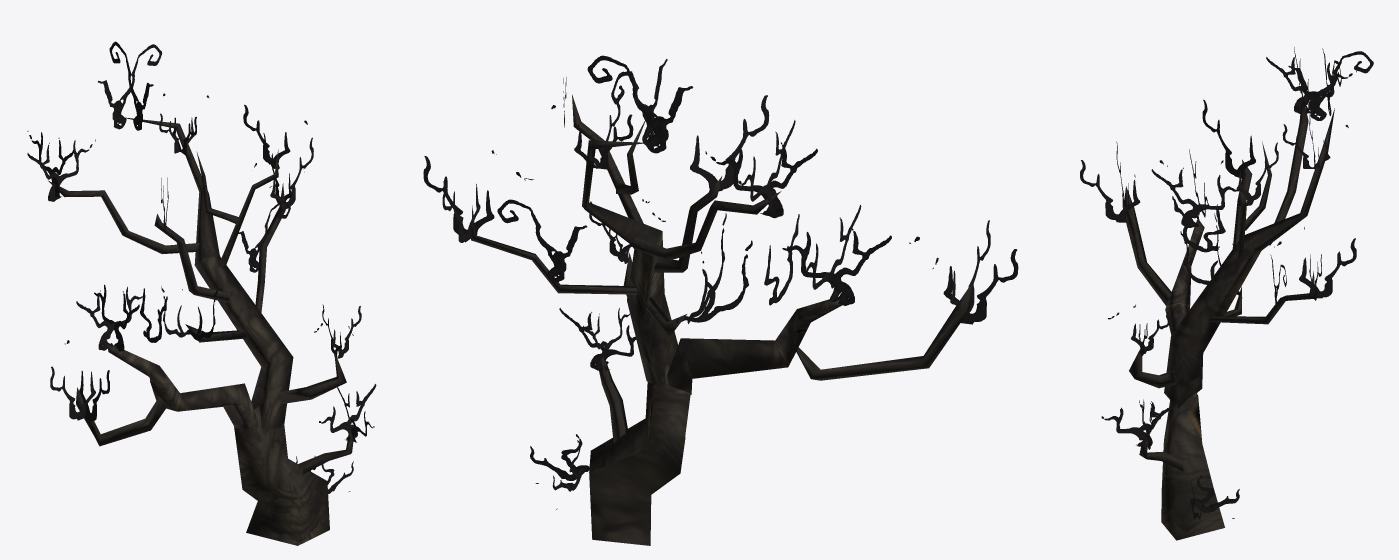
File: huoguankushu01.FBX
3 renders of one model, left to right at view 1: azimuth 30°, elevation 25°; view 2: azimuth 150°, elevation 25°; view 3: azimuth 270°, elevation 25°, orthographic. The views are drawn at different scales.
Parts seen in each view (by area): view 1: kushu01; view 2: kushu01; view 3: kushu01.
Part boxes in pixels (x1,y1,x2,y2): kushu01: (27, 41, 376, 545); kushu01: (423, 55, 1018, 545); kushu01: (1080, 47, 1373, 540).
Size of the model in its own units: 934 by 680 by 1063.
